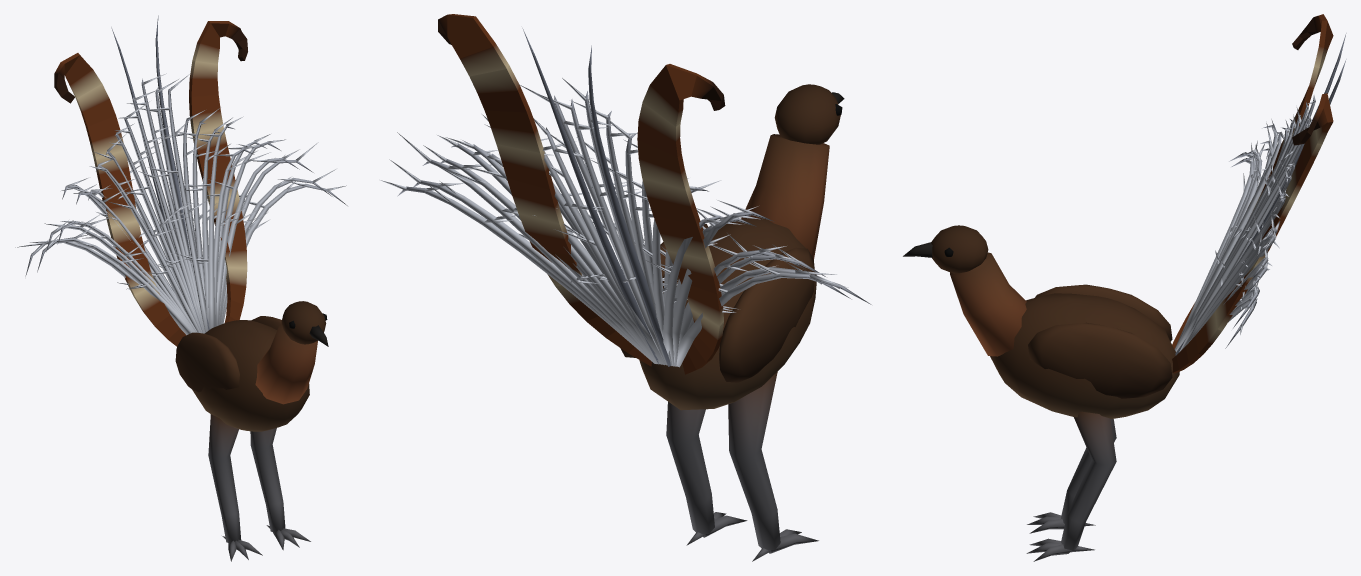
The model's file is SuperbLyrebird.fbx.
3 renders of one model, left to right at view 1: azimuth 30°, elevation 25°; view 2: azimuth 150°, elevation 25°; view 3: azimuth 270°, elevation 25°, orthographic. The views are drawn at different scales.
Parts seen in each view (by area): view 1: SuperbLyrebird; view 2: SuperbLyrebird; view 3: SuperbLyrebird.
Part boxes in pixels (<box>): SuperbLyrebird: <box>15,15,347,561</box>; SuperbLyrebird: <box>380,14,871,561</box>; SuperbLyrebird: <box>903,14,1346,561</box>.
Size of the model in its own units: 1.11 by 1.4 by 1.13.
